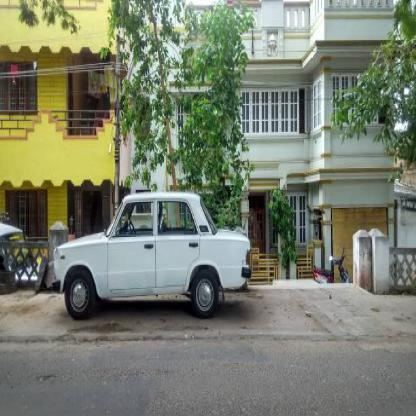car: (54, 190, 251, 313)
